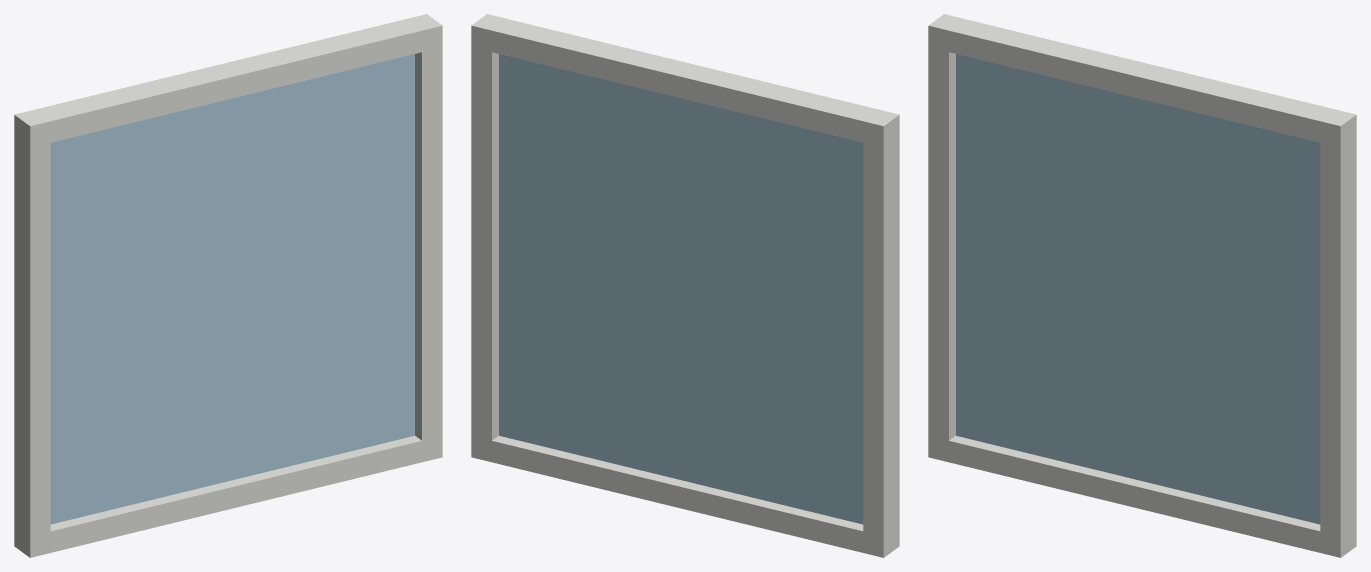
Rendered from window.obj.
The picture shows the model from 3 angles, left to right: view 1: azimuth 30°, elevation 25°; view 2: azimuth 150°, elevation 25°; view 3: azimuth 330°, elevation 25°; orthographic projection.
Parts seen in each view (by area): view 1: Glass, Frame_T, Frame_L, Frame_B, Frame_R; view 2: Glass, Frame_T, Frame_L, Frame_B, Frame_R; view 3: Glass, Frame_T, Frame_R, Frame_B, Frame_L.
Boxes of the visible parts, x1=… form: Glass: x1=50, y1=54, x2=414, y2=524; Frame_T: x1=14, y1=14, x2=442, y2=147; Frame_L: x1=14, y1=136, x2=50, y2=536; Frame_B: x1=14, y1=436, x2=442, y2=557; Frame_R: x1=415, y1=47, x2=442, y2=440; Glass: x1=499, y1=54, x2=863, y2=524; Frame_T: x1=471, y1=14, x2=899, y2=147; Frame_L: x1=863, y1=136, x2=899, y2=536; Frame_B: x1=471, y1=436, x2=899, y2=557; Frame_R: x1=471, y1=47, x2=498, y2=440; Glass: x1=956, y1=54, x2=1320, y2=524; Frame_T: x1=928, y1=14, x2=1356, y2=147; Frame_R: x1=1320, y1=136, x2=1356, y2=536; Frame_B: x1=928, y1=436, x2=1356, y2=557; Frame_L: x1=928, y1=47, x2=955, y2=440.
Bounding box in the file's own units: 1.2 × 1.2 × 0.08.
